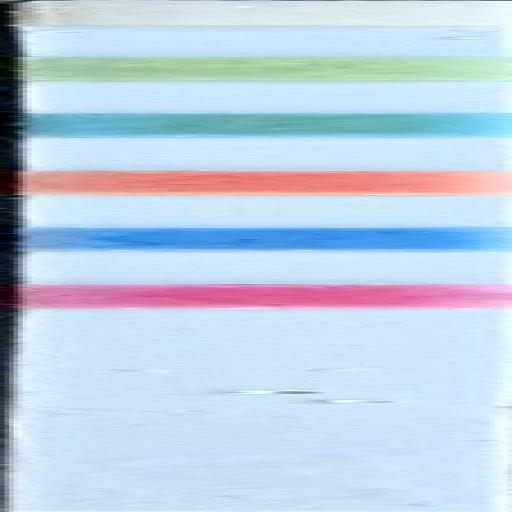pads: (0, 112, 512, 140), (0, 282, 512, 310), (0, 0, 512, 27), (0, 55, 512, 82), (0, 169, 512, 195), (0, 226, 512, 252)
